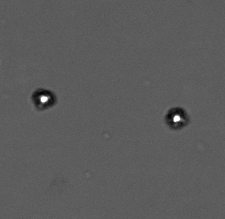Living Cell: (166, 107, 188, 129), (32, 88, 54, 109)
